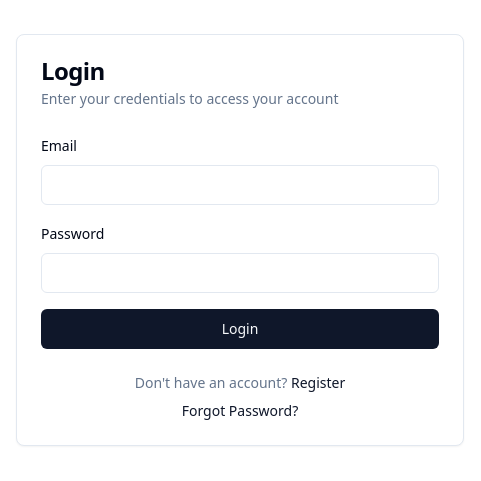
Scenario: LoginPage › Failed Login › displays error message on login failure
Type "test@example.com" into the field labelled "Email" at (240, 185), box 41,165 -> 439,205
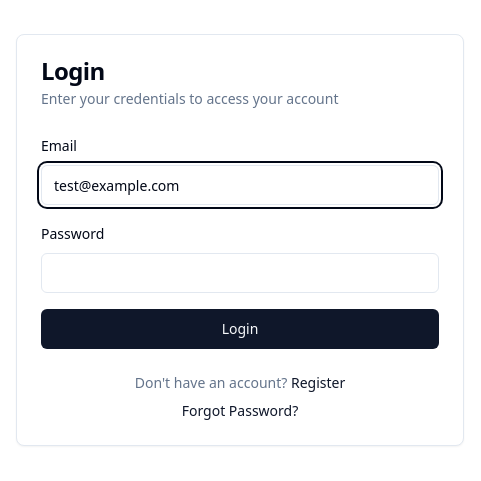
Type "wrongpassword" into the password field labelled "Password" at (240, 273), box 41,253 -> 439,293
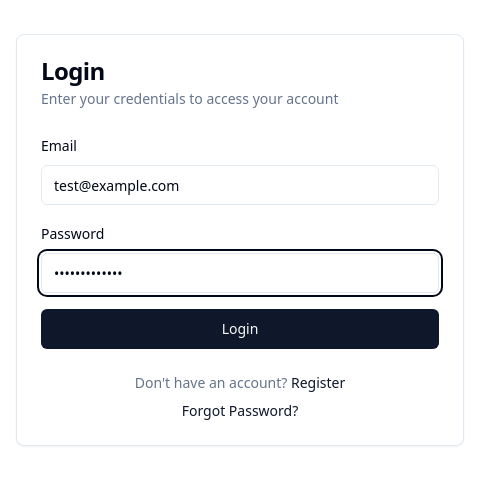
Click the button "Login" at (240, 329), box 41,309 -> 439,349
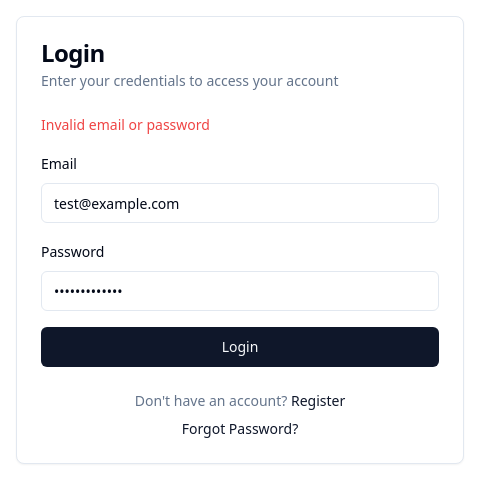
Check: the text "Invalid email or password" is shown, box 41,115 -> 210,134
